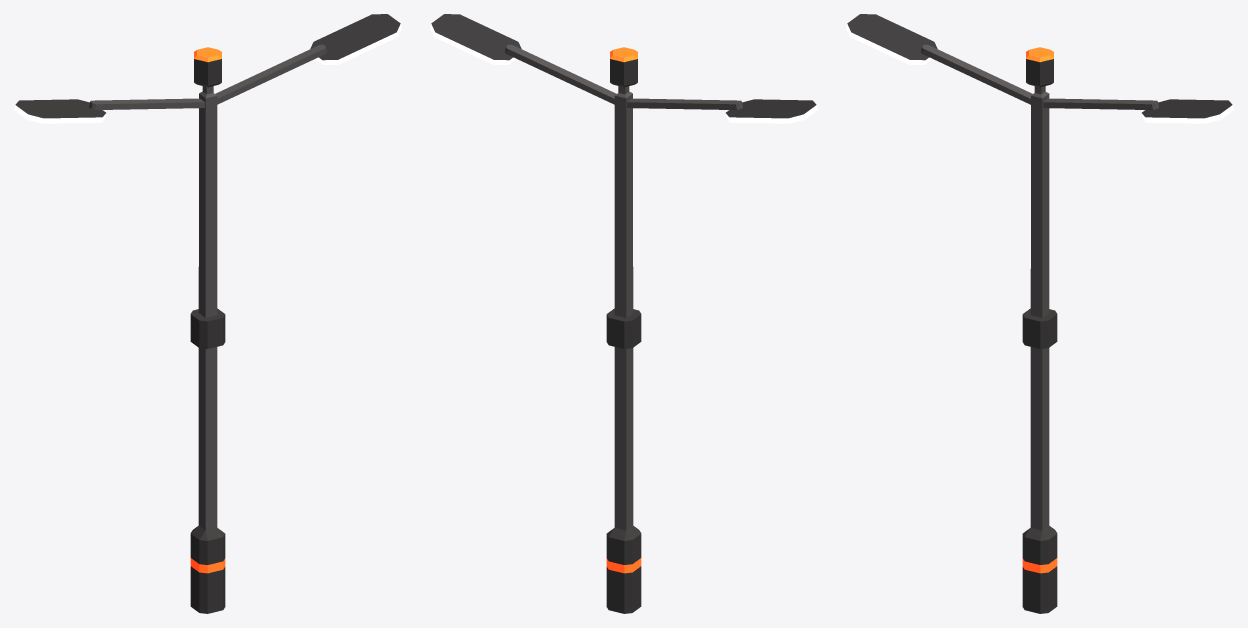
The model's file is scifi-scifi-lamp-road-double.glb.
3 views of the same model, side by side, from view 1: azimuth 30°, elevation 25°; view 2: azimuth 150°, elevation 25°; view 3: azimuth 330°, elevation 25° (orthographic).
Visible parts, largest first — view 1: scifi-lamp-road-double; view 2: scifi-lamp-road-double; view 3: scifi-lamp-road-double.
Boxes of the visible parts, left/top/right/bottom form: scifi-lamp-road-double: left=14, top=14, right=401, bottom=613; scifi-lamp-road-double: left=430, top=14, right=817, bottom=613; scifi-lamp-road-double: left=846, top=14, right=1233, bottom=613.
Bounding box in the file's own units: 6.75 × 9.55 × 0.7694.
